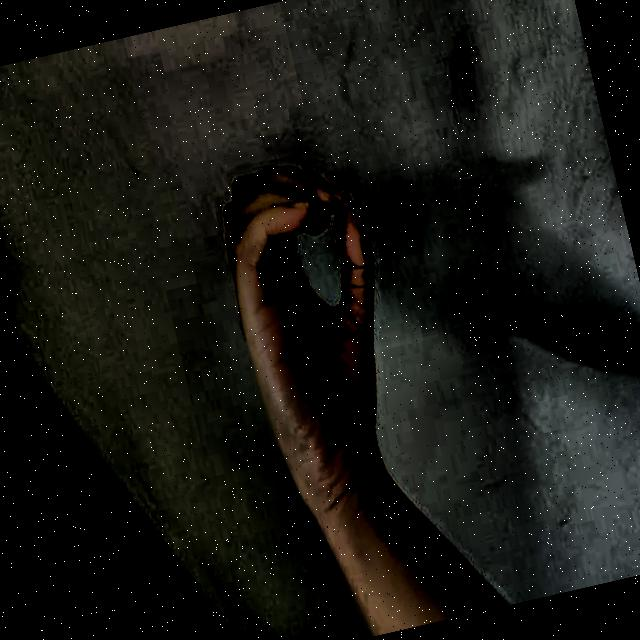O: (176, 122, 447, 522)
